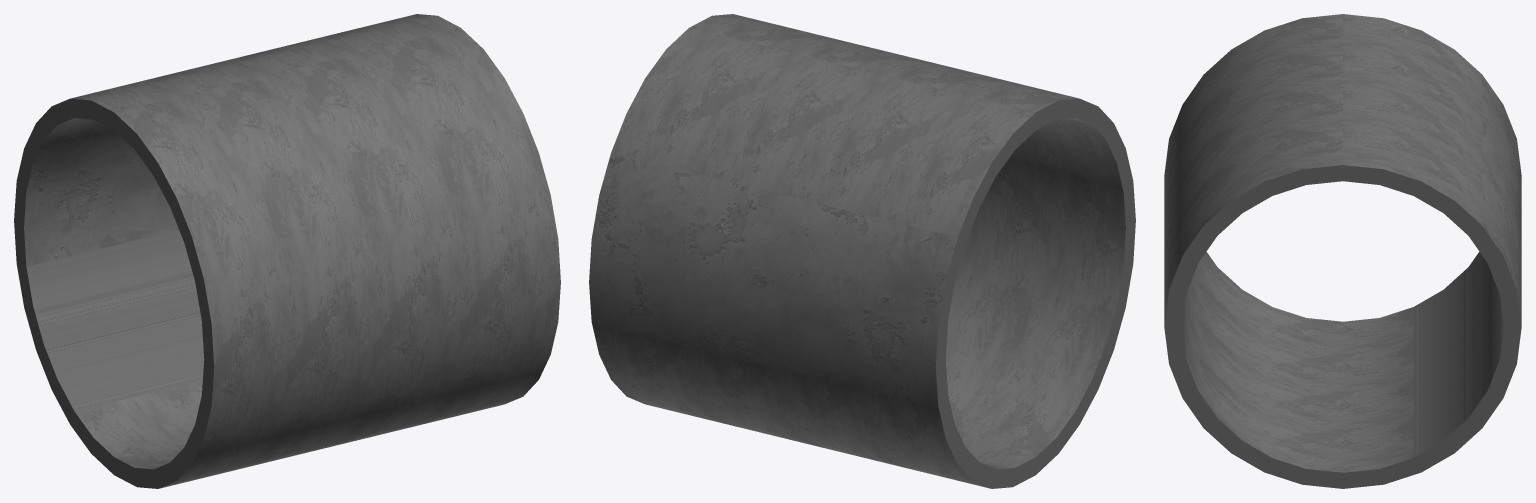
The model's file is ConcreteTunnel_SM.FBX.
The picture shows the model from 3 angles, left to right: view 1: azimuth 30°, elevation 25°; view 2: azimuth 150°, elevation 25°; view 3: azimuth 270°, elevation 25°; orthographic projection. The views are drawn at different scales.
Parts seen in each view (by area): view 1: Tunnel_SM; view 2: Tunnel_SM; view 3: Tunnel_SM.
Part boxes in pixels (box(x1,y1,x2,y2)): Tunnel_SM: box(14, 14, 560, 488); Tunnel_SM: box(589, 14, 1135, 488); Tunnel_SM: box(1164, 14, 1521, 488).
Size of what is drawn, in the model's own units: 1000 by 1000 by 1000.
Materials: 1 (1 with a texture image).
